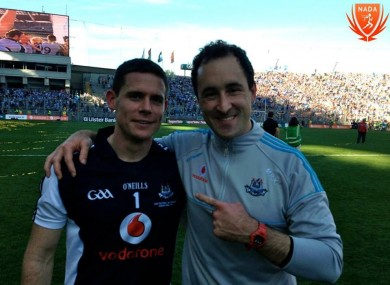player: (194, 41, 341, 281), (58, 60, 193, 263)
